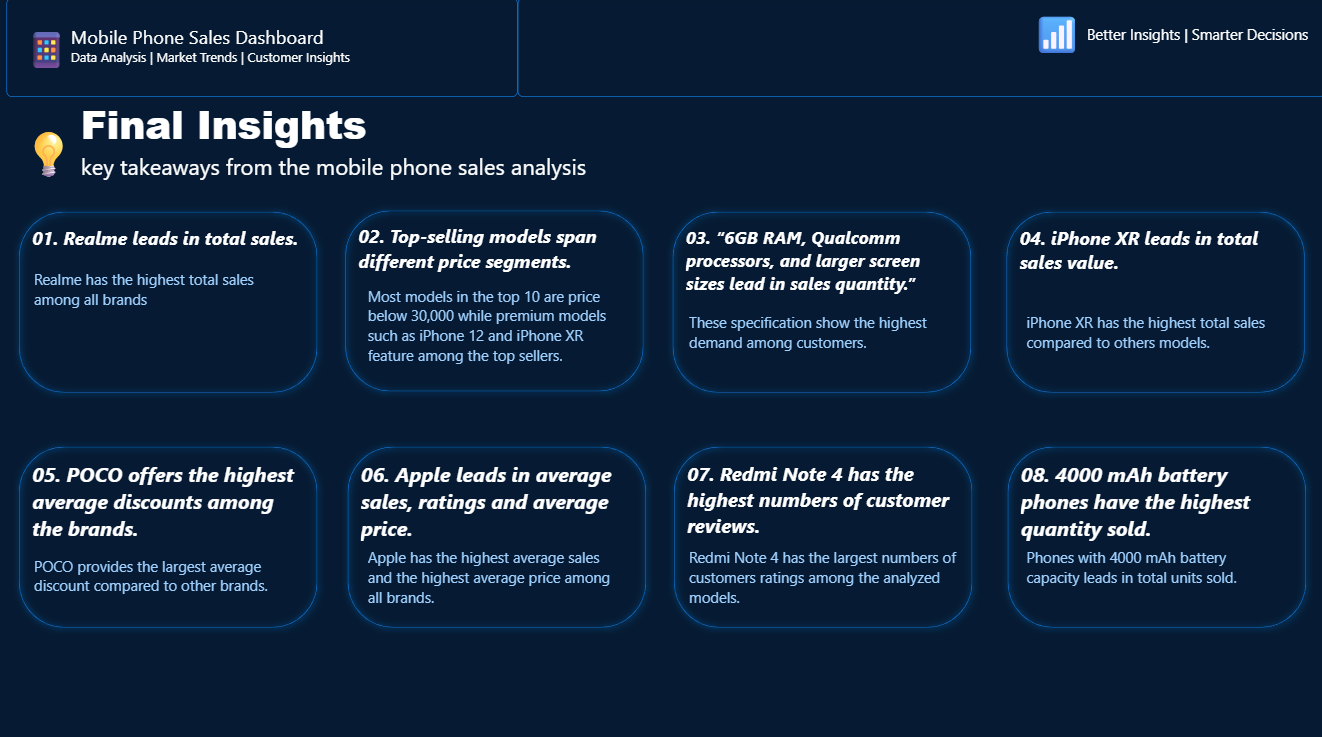

Layout of this report page (visuals, bound fields, positions):
{"tool":"powerbi","page":{"name":"Key findings & recommendations","canvas":[1920,1080],"ordinal":2},"visuals":[{"type":"textbox","box":[10.9,0,740.2,143],"z":0},{"type":"textbox","box":[751,0,1169,143],"z":1000},{"type":"textbox","box":[10.9,143,1909.2,157.4],"z":2000},{"type":"shape","box":[19.9,300.4,450,280],"z":3000},{"type":"shape","box":[492.2,298.6,450,280],"z":4000},{"type":"shape","box":[966.4,300.4,450,280],"z":5000},{"type":"shape","box":[1449.5,300.4,450,280],"z":6000},{"type":"shape","box":[19.9,640.6,450,280],"z":7000},{"type":"shape","box":[495.8,640.6,450,280],"z":8000},{"type":"shape","box":[968.2,640.6,450,280],"z":9000},{"type":"shape","box":[1451.3,640.6,450,280],"z":10000},{"type":"textbox","box":[50.7,392.7,385.5,146.6],"z":11000},{"type":"textbox","box":[533.8,416.2,369.2,139.3],"z":12000},{"type":"textbox","box":[998.9,454.2,383.6,85.1],"z":13000},{"type":"textbox","box":[1487.5,454.2,367.4,85.1],"z":14000},{"type":"textbox","box":[50.7,807.1,385.5,90.5],"z":15000},{"type":"textbox","box":[533.8,794.4,369.2,88.7],"z":16000},{"type":"textbox","box":[998.9,794.4,401.7,103.2],"z":17000},{"type":"textbox","box":[1487.5,794.4,389.1,103.2],"z":18000},{"type":"shape","box":[19.9,7.2,97.7,128.5],"z":19000},{"type":"shape","box":[1464,0,135.7,99.5],"z":20000},{"type":"shape","box":[10.9,144.8,106.8,155.6],"z":21000}]}

Visuals, with their boxes in screenshot pixels (x1, y1, x2, y2), scaled from the page's 1920x1080 canvas onto the 1322x737 screenshot:
textbox: locate(8, 0, 517, 98)
textbox: locate(517, 0, 1321, 98)
textbox: locate(8, 98, 1321, 205)
shape: locate(14, 205, 324, 396)
shape: locate(339, 204, 649, 395)
shape: locate(665, 205, 975, 396)
shape: locate(998, 205, 1308, 396)
shape: locate(14, 437, 324, 628)
shape: locate(341, 437, 651, 628)
shape: locate(667, 437, 976, 628)
shape: locate(999, 437, 1309, 628)
textbox: locate(35, 268, 300, 368)
textbox: locate(368, 284, 622, 379)
textbox: locate(688, 310, 952, 368)
textbox: locate(1024, 310, 1277, 368)
textbox: locate(35, 551, 300, 613)
textbox: locate(368, 542, 622, 603)
textbox: locate(688, 542, 964, 613)
textbox: locate(1024, 542, 1292, 613)
shape: locate(14, 5, 81, 93)
shape: locate(1008, 0, 1101, 68)
shape: locate(8, 99, 81, 205)
